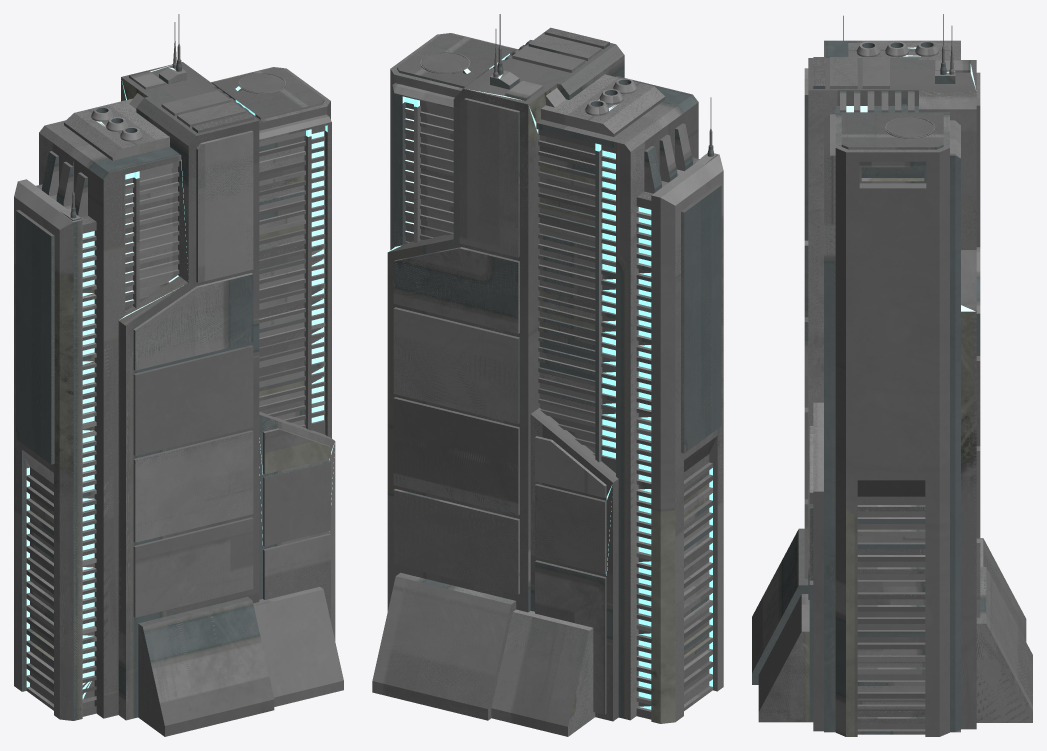
File: Building7.fbx
3 renders of one model, left to right at view 1: azimuth 30°, elevation 25°; view 2: azimuth 150°, elevation 25°; view 3: azimuth 270°, elevation 25°, orthographic. The views are drawn at different scales.
Parts seen in each view (by area): view 1: Building_vi_5; view 2: Building_vi_5; view 3: Building_vi_5.
Part boxes in pixels (bbox=[...]): Building_vi_5: bbox=[14, 14, 343, 736]; Building_vi_5: bbox=[372, 14, 723, 736]; Building_vi_5: bbox=[752, 14, 1032, 736].
Bounding box in the file's own units: 37.98 × 83.42 × 31.78.
Materials: 2 (1 with a texture image).
